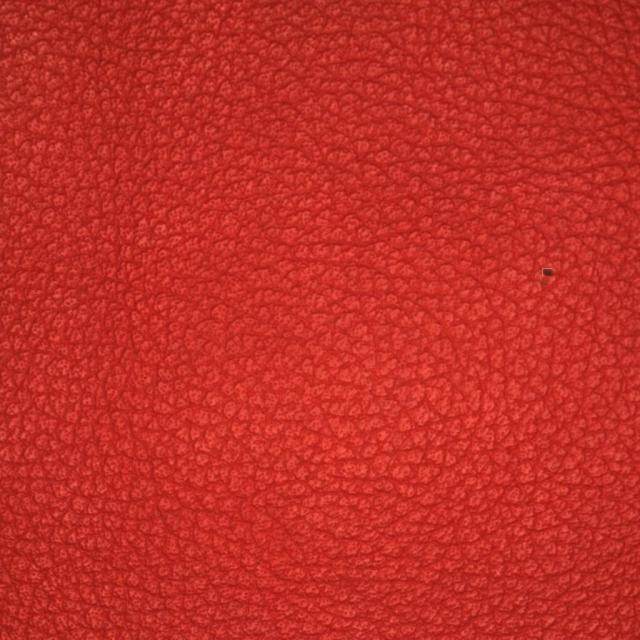Hole: (456, 202, 600, 352)
